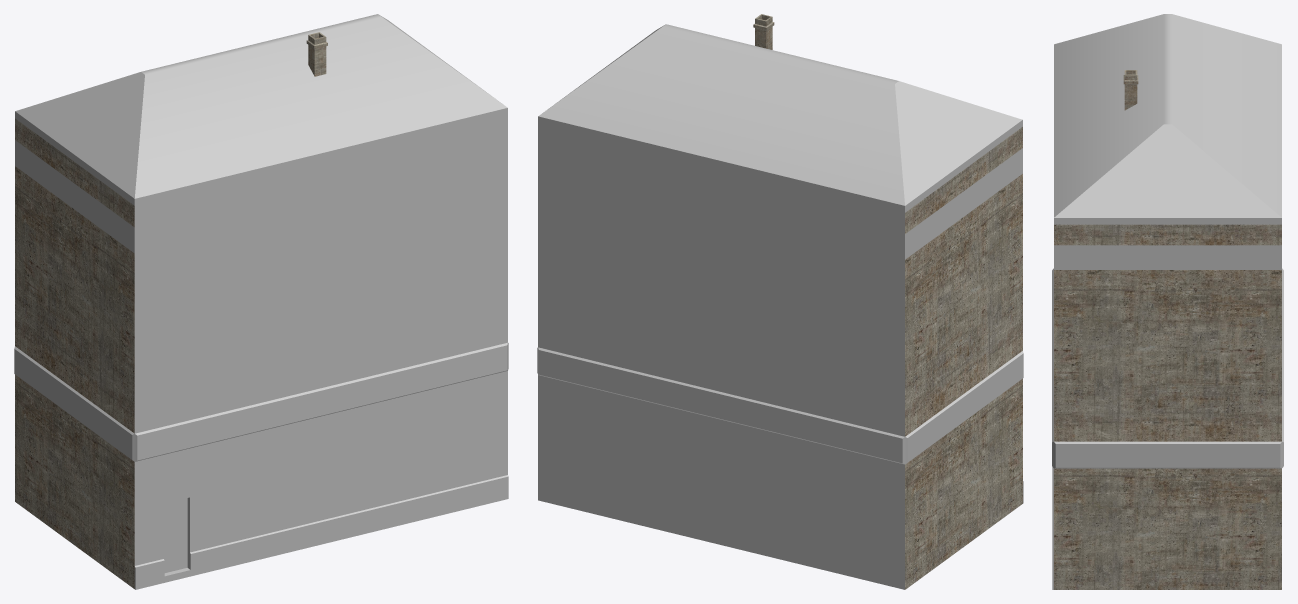
Rendered from house1_LOD.fbx.
3 renders of one model, left to right at view 1: azimuth 30°, elevation 25°; view 2: azimuth 150°, elevation 25°; view 3: azimuth 270°, elevation 25°, orthographic. The views are drawn at different scales.
Parts seen in each view (by area): view 1: Mesh; view 2: Mesh; view 3: Mesh.
Boxes of the visible parts, <box> form: Mesh: <box>14,14,508,589</box>; Mesh: <box>537,14,1023,589</box>; Mesh: <box>1052,14,1283,589</box>.
Bounding box in the file's own units: 908 × 1082 × 508.
